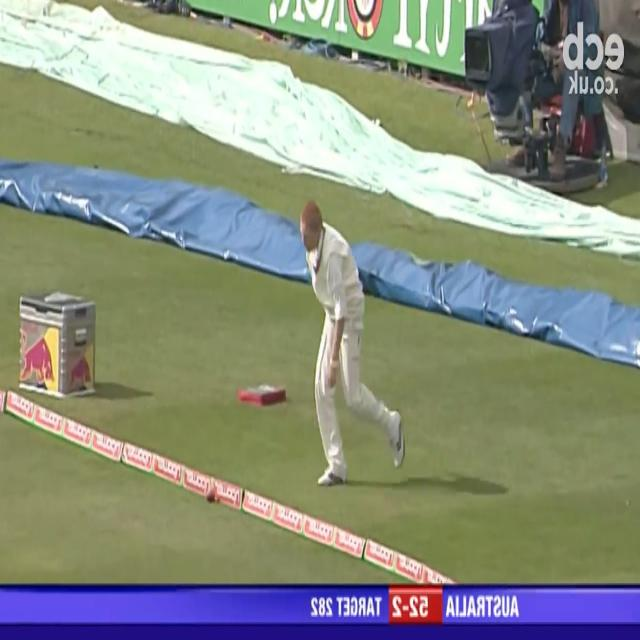ball: (205, 485, 219, 508)
